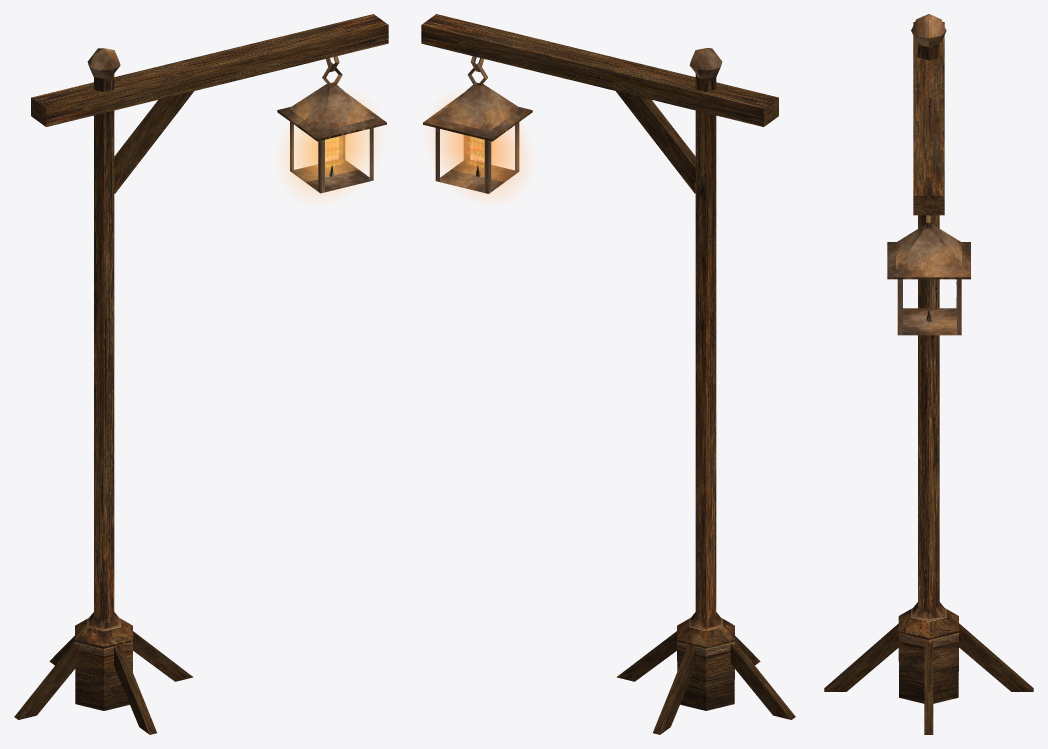
File: mm9_deco_lamppost4.glb
3 views of the same model, side by side, from view 1: azimuth 30°, elevation 25°; view 2: azimuth 150°, elevation 25°; view 3: azimuth 270°, elevation 25° (orthographic). The views are drawn at different scales.
Visible parts, largest first — view 1: Lamppost4; view 2: Lamppost4; view 3: Lamppost4.
Boxes of the visible parts, x1,y1,x2,y2 form: Lamppost4: (14, 14, 388, 734); Lamppost4: (421, 14, 795, 734); Lamppost4: (824, 14, 1033, 734).
Bounding box in the file's own units: 2.79 × 4.61 × 1.3.
Materials: 4 (4 with a texture image).
